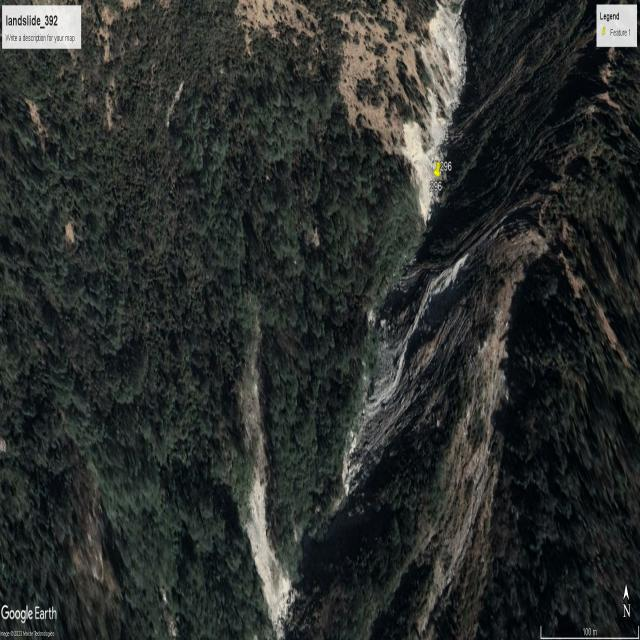Landslide: (241, 478, 293, 632)
